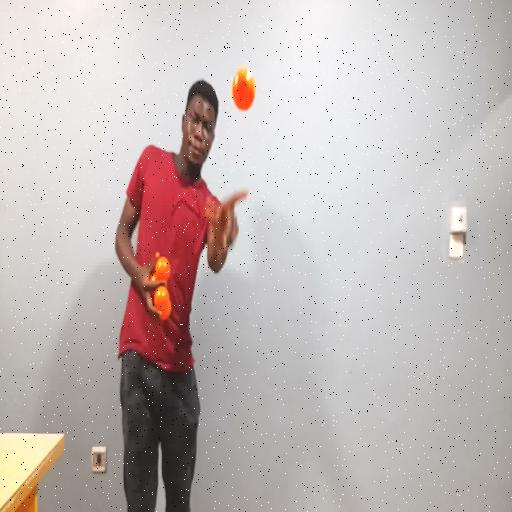plastic-ball: (230, 63, 259, 117)
